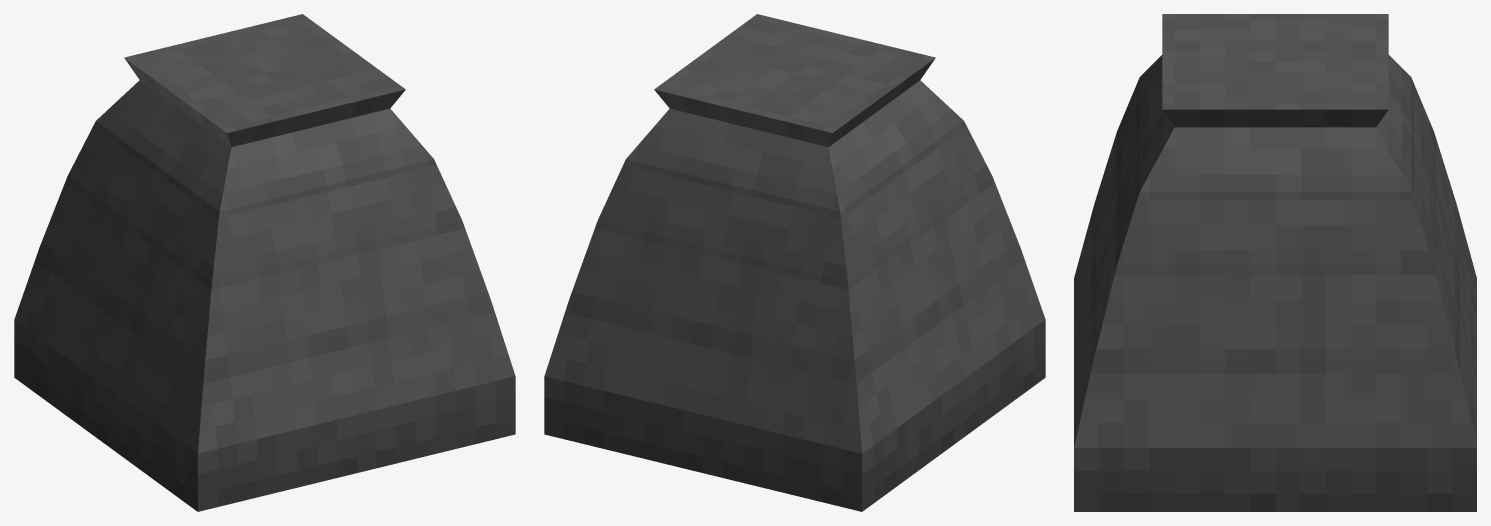
Rendered from thruster.obj.
3 renders of one model, left to right at view 1: azimuth 30°, elevation 25°; view 2: azimuth 150°, elevation 25°; view 3: azimuth 270°, elevation 25°, orthographic. The views are drawn at different scales.
Visible parts, largest first — view 1: Cube; view 2: Cube; view 3: Cube.
Part boxes in pixels (<box>): Cube: <box>14,14,515,511</box>; Cube: <box>544,14,1045,511</box>; Cube: <box>1074,14,1476,511</box>.
Size of the model in its own units: 1 by 1 by 1.
